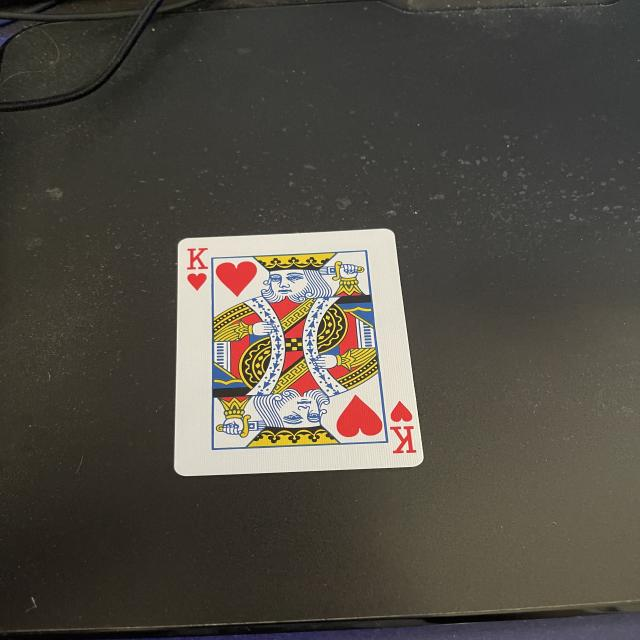King of hearts: (176, 229, 420, 475)
